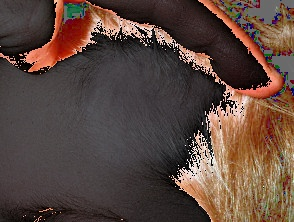vitiligo: (44, 19, 254, 206)
